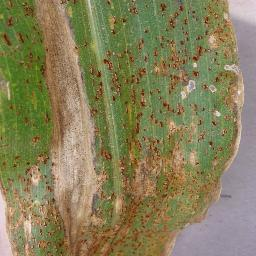Corn_Blight: (3, 0, 248, 256)
